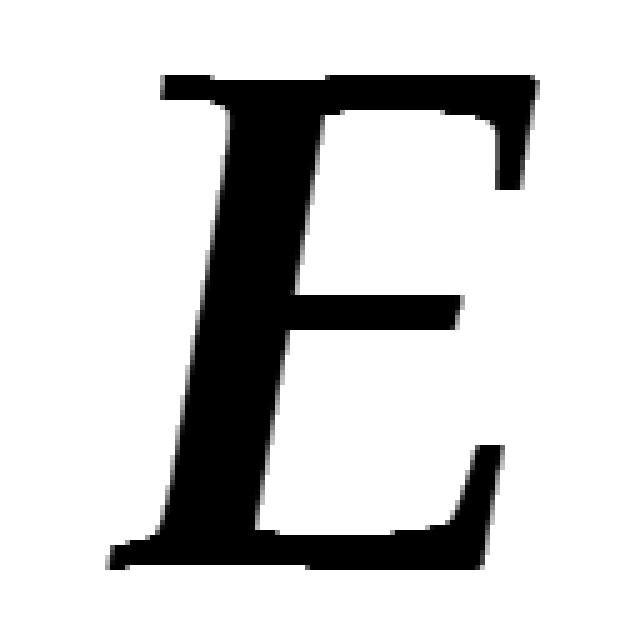E: (110, 75, 540, 570)
